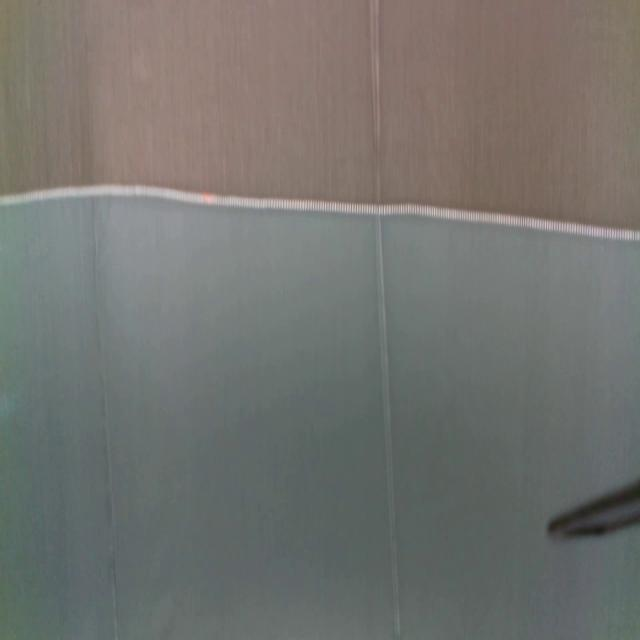crease: (371, 0, 401, 640), (86, 93, 119, 640)
